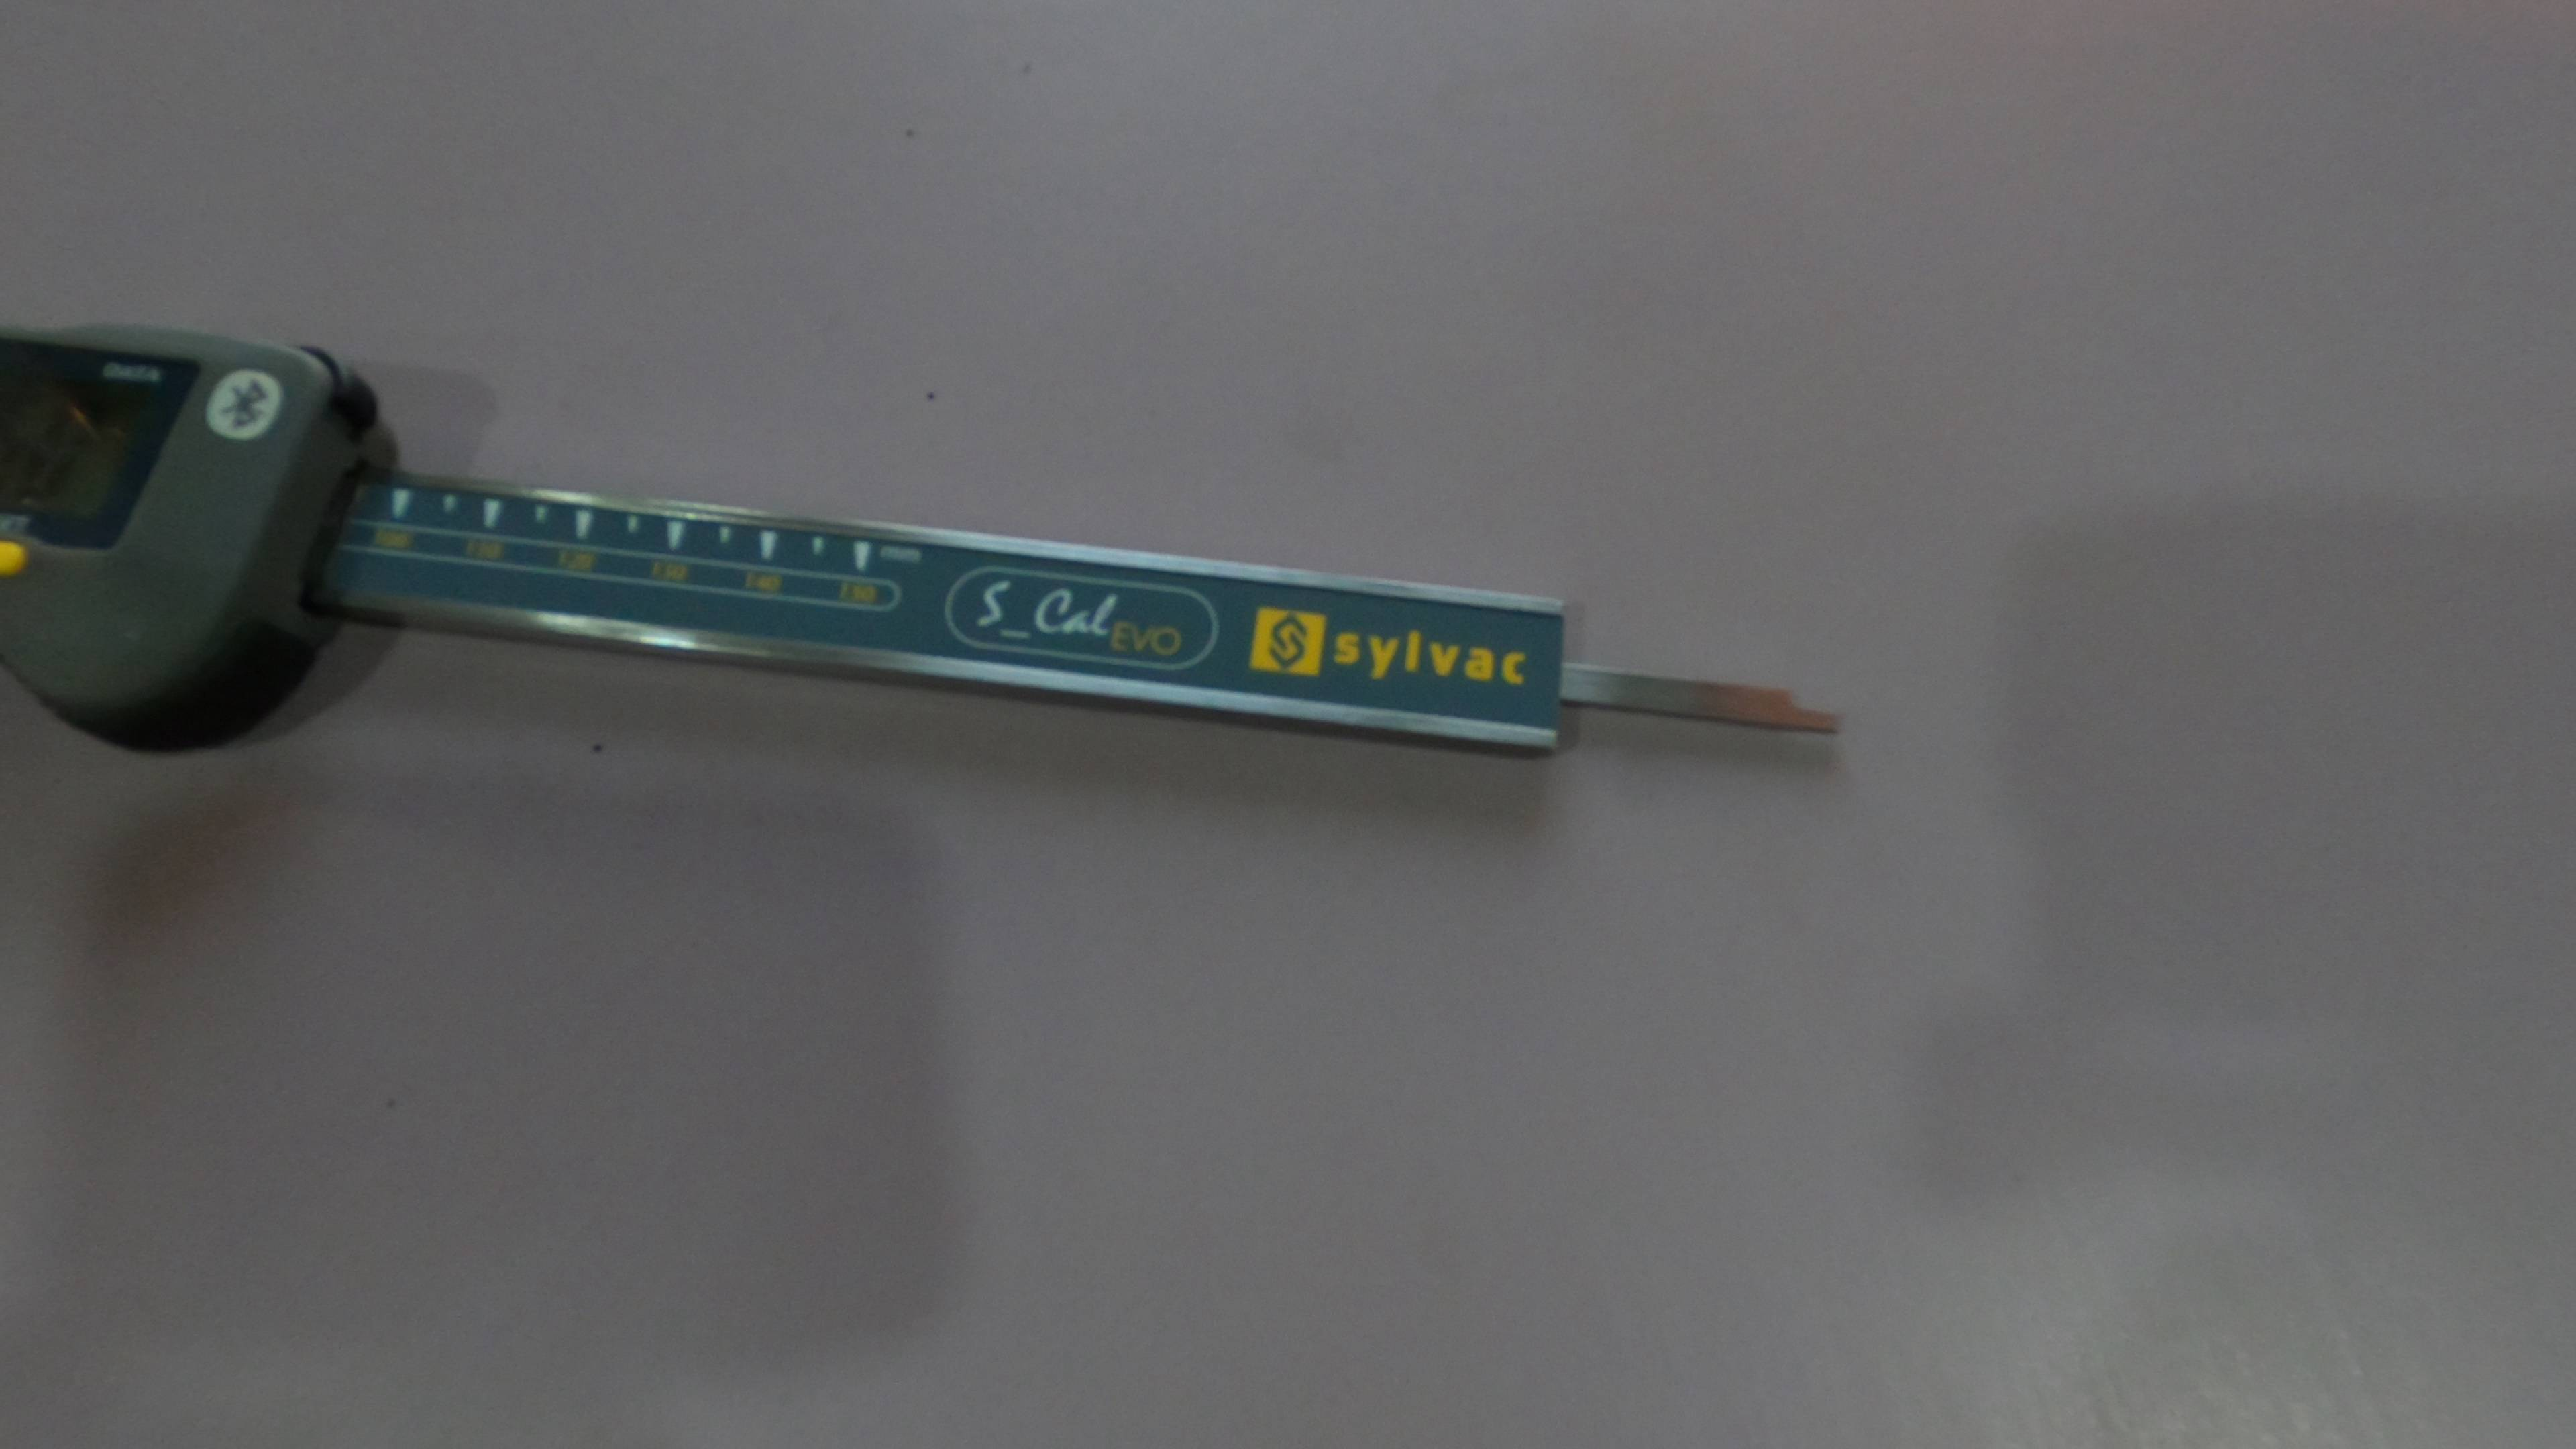vernier_caliper: (11, 262, 1852, 764)
